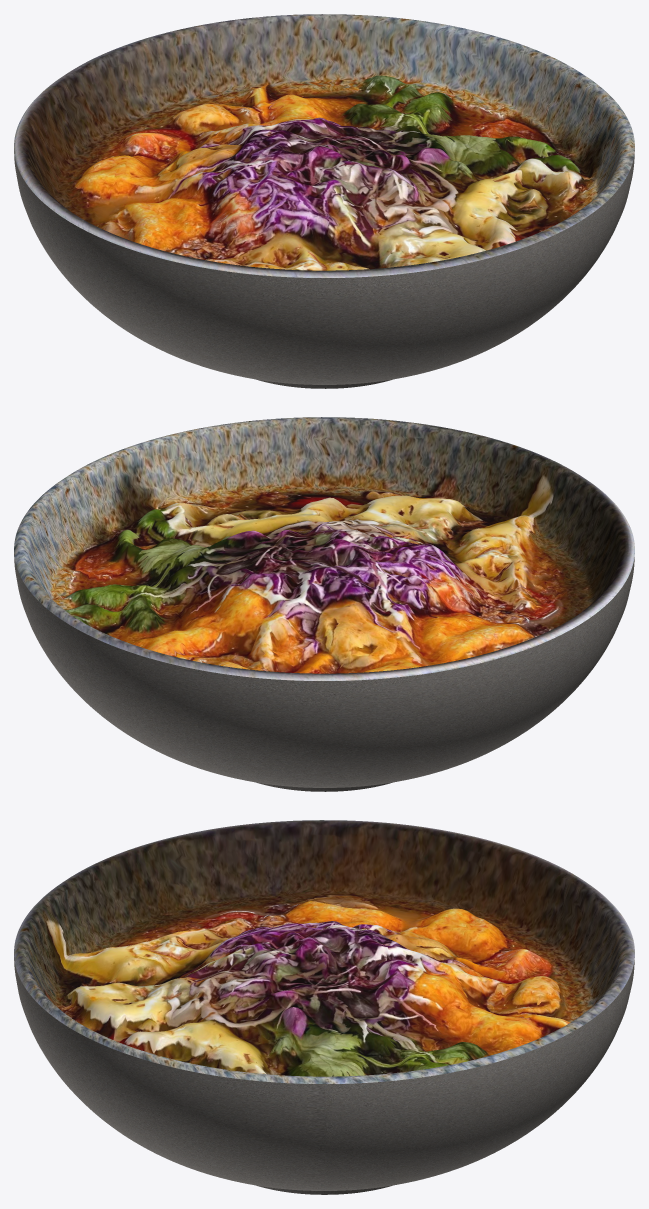
Rendered from dish-sv.glb.
3 renders of one model, top to bottom at view 1: azimuth 30°, elevation 25°; view 2: azimuth 150°, elevation 25°; view 3: azimuth 270°, elevation 25°, orthographic.
Visible parts, largest first — view 1: NoodleBowl; view 2: NoodleBowl; view 3: NoodleBowl.
Part boxes in pixels (x1,y1,x2,y2): NoodleBowl: [14, 14, 634, 388]; NoodleBowl: [14, 417, 634, 791]; NoodleBowl: [14, 820, 634, 1194].
Bounding box in the file's own units: 0.22 × 0.0775 × 0.22.
2 materials, 2 textured.
